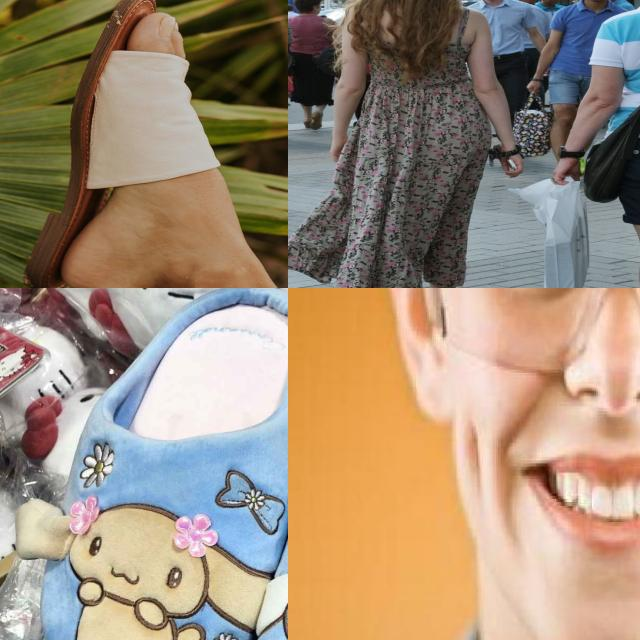No_Ear-Protection: (383, 288, 450, 425)
Sandals: (22, 288, 288, 640), (16, 0, 244, 288)
face_nomask: (450, 319, 640, 640)
